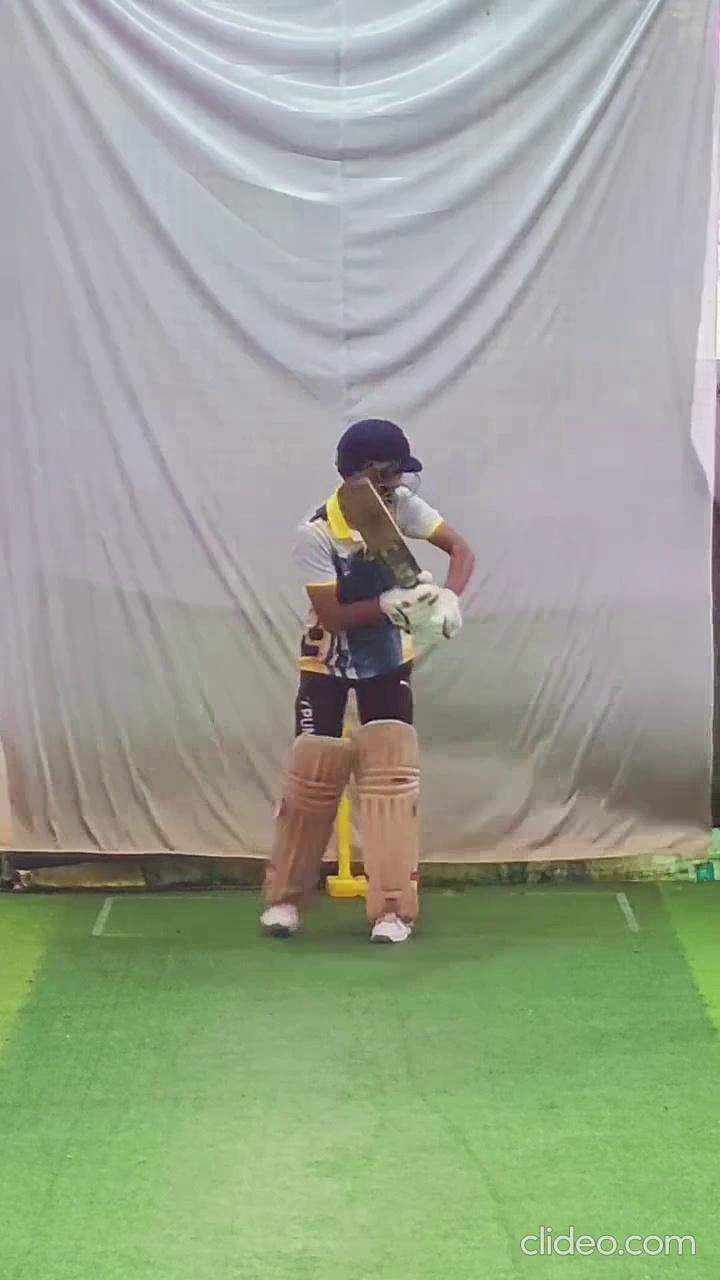bat: (333, 468, 424, 590)
